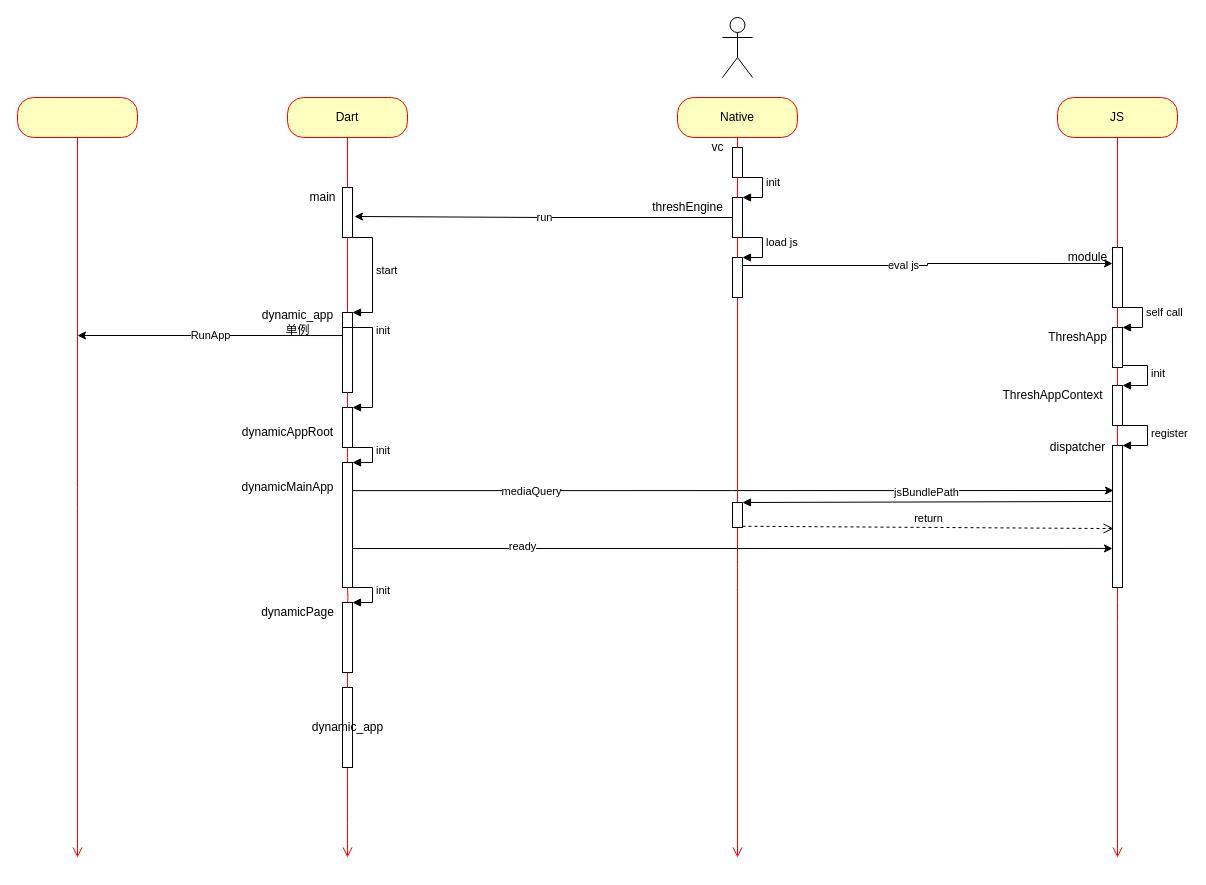
Some shapes in this 1206 by 885 pixel diagram are drawn without their labels. The centre of each missing label's shape, as x and y in pixels:
"Actor" belongs at pixel 737 47.
"FlutterFramework" belongs at pixel 77 117.
